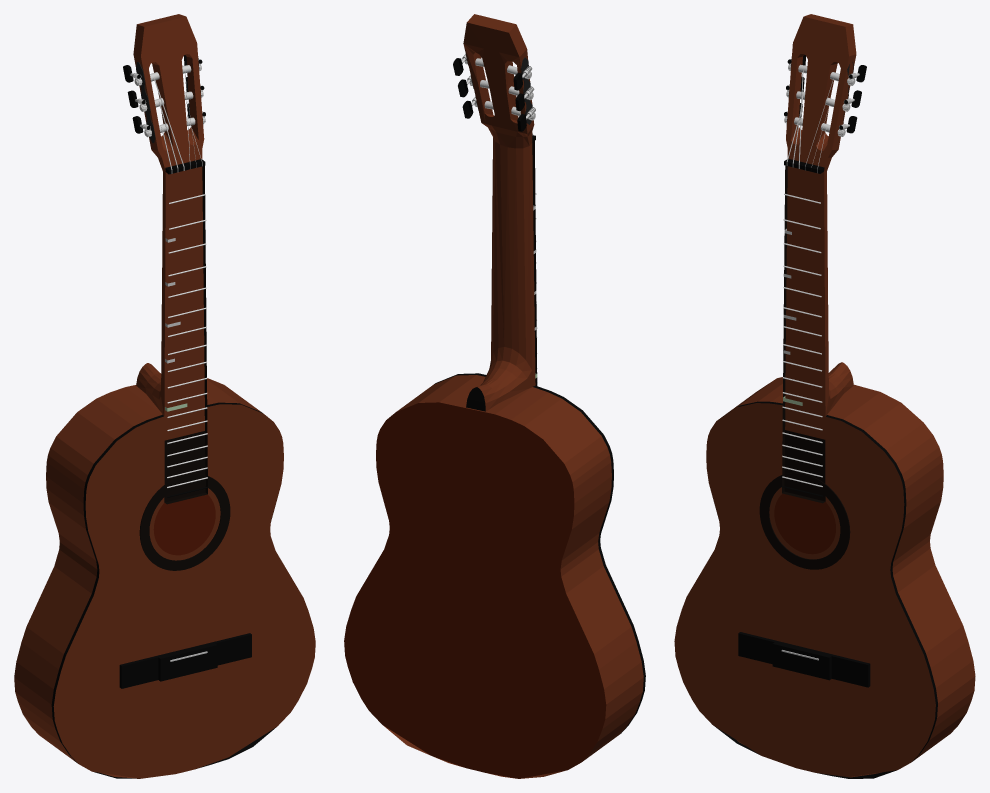
Rendered from gao.obj.
3 views of the same model, side by side, from view 1: azimuth 30°, elevation 25°; view 2: azimuth 150°, elevation 25°; view 3: azimuth 330°, elevation 25° (orthographic).
Visible parts, largest first — view 1: fullguitar.top_Cube_Cube.005, fullguitar.body_Cube_Cube.007, fullguitar.neck_Cube_Cube.006, fullguitar_Cube_Cube.009, touche_Cube_Cube.015, frets_Cube_Cube.013; view 2: fullguitar.body_Cube_Cube.007, fullguitar.neck_Cube_Cube.006, fullguitar_Cube_Cube.009, touche_Cube_Cube.015; view 3: fullguitar.top_Cube_Cube.005, fullguitar.body_Cube_Cube.007, fullguitar.neck_Cube_Cube.006, fullguitar_Cube_Cube.009, touche_Cube_Cube.015, frets_Cube_Cube.013.
Boxes of the visible parts, x1=… form: fullguitar.top_Cube_Cube.005: x1=53, y1=404, x2=315, y2=778; fullguitar.body_Cube_Cube.007: x1=14, y1=378, x2=276, y2=778; fullguitar.neck_Cube_Cube.006: x1=133, y1=14, x2=204, y2=418; fullguitar_Cube_Cube.009: x1=119, y1=55, x2=251, y2=688; touche_Cube_Cube.015: x1=164, y1=166, x2=207, y2=504; frets_Cube_Cube.013: x1=167, y1=194, x2=207, y2=488; fullguitar.body_Cube_Cube.007: x1=344, y1=373, x2=645, y2=778; fullguitar.neck_Cube_Cube.006: x1=463, y1=14, x2=535, y2=411; fullguitar_Cube_Cube.009: x1=453, y1=54, x2=535, y2=142; touche_Cube_Cube.015: x1=532, y1=141, x2=537, y2=385; fullguitar.top_Cube_Cube.005: x1=674, y1=403, x2=935, y2=777; fullguitar.body_Cube_Cube.007: x1=713, y1=377, x2=975, y2=778; fullguitar.neck_Cube_Cube.006: x1=785, y1=14, x2=856, y2=417; fullguitar_Cube_Cube.009: x1=738, y1=55, x2=870, y2=687; touche_Cube_Cube.015: x1=782, y1=165, x2=825, y2=503; frets_Cube_Cube.013: x1=782, y1=193, x2=822, y2=487.
Size of the model in its own units: 147 by 395 by 43.22.
